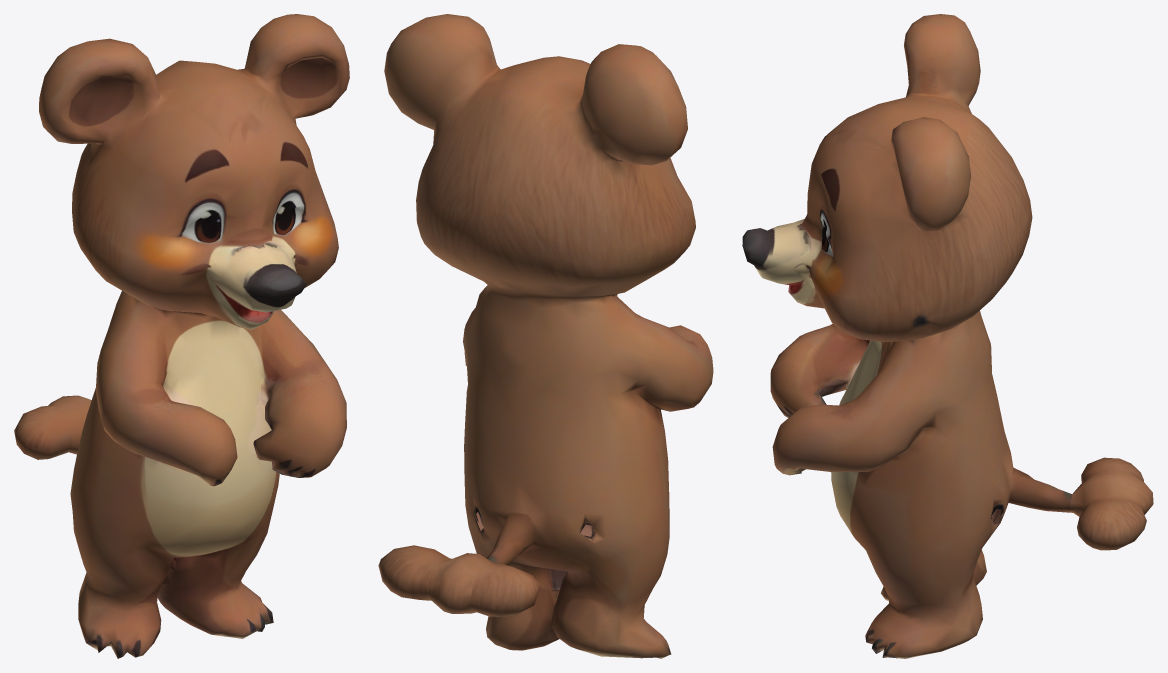
The model's file is bear_russia.glb.
The picture shows the model from 3 angles, left to right: view 1: azimuth 30°, elevation 25°; view 2: azimuth 150°, elevation 25°; view 3: azimuth 270°, elevation 25°; orthographic projection. The views are drawn at different scales.
Bounding box in the file's own units: 1.03 × 2 × 1.3.
1 material, 1 textured.
